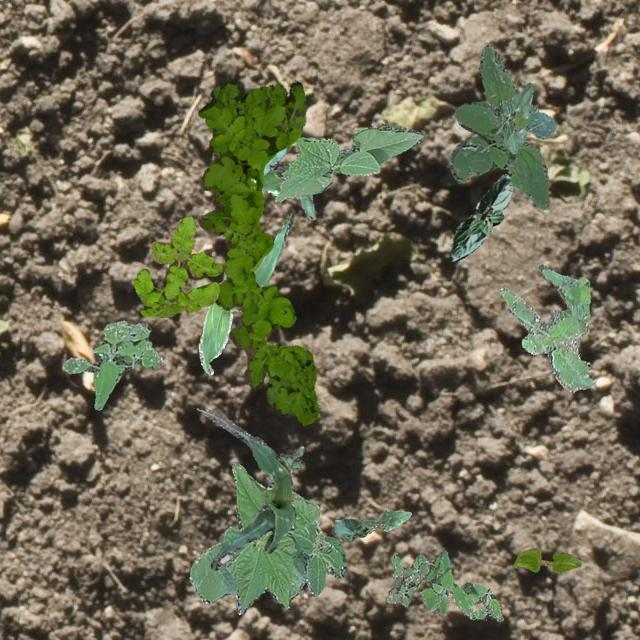crop: (188, 462, 346, 614), (198, 408, 294, 570), (198, 212, 292, 374), (274, 122, 422, 202), (249, 146, 351, 220), (449, 174, 512, 260), (496, 81, 532, 152), (332, 510, 410, 540), (512, 546, 580, 570)
weed: (196, 80, 318, 424), (450, 44, 554, 208), (498, 264, 594, 391), (132, 215, 222, 316), (62, 320, 162, 410), (386, 550, 502, 620), (278, 444, 304, 472)
